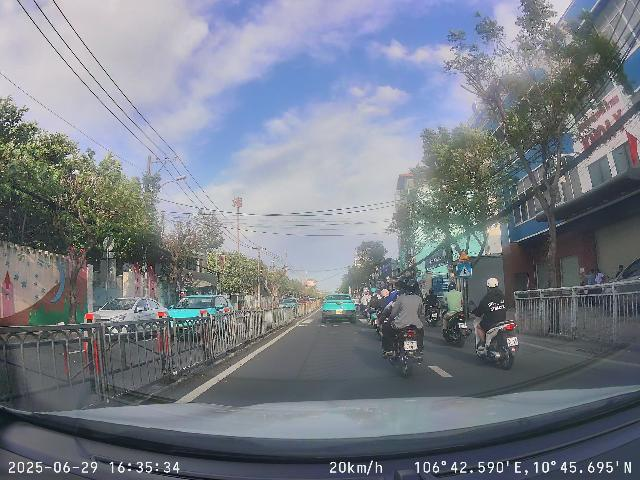221-duong-go-ghe: (458, 249, 470, 262)
423a-duong-nguoi-di-bo-sang-ngang-1: (458, 263, 472, 278)
